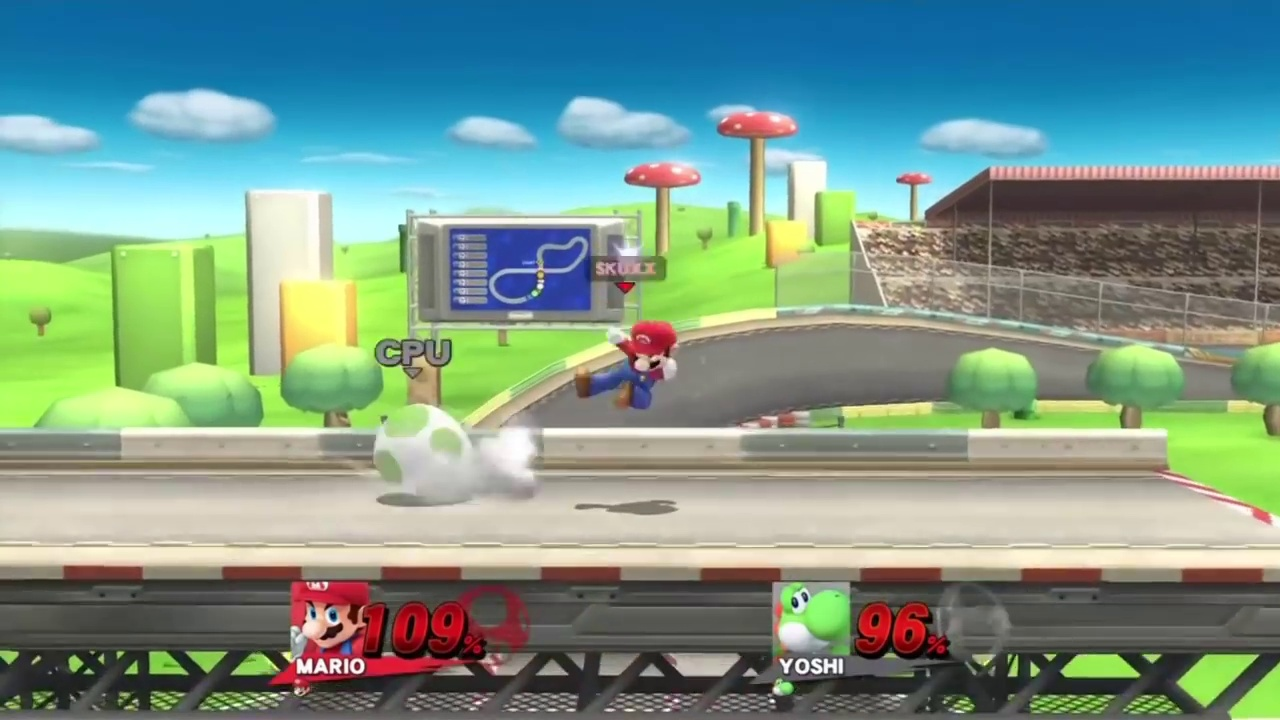Mario: (573, 323, 677, 411)
